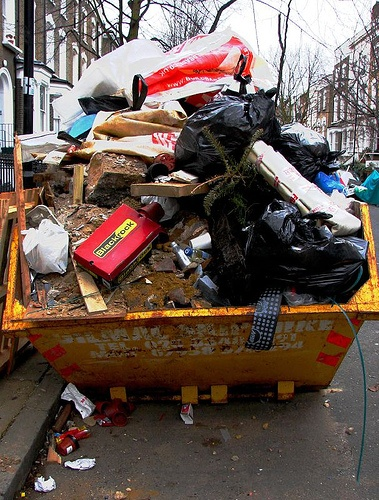rubble: (27, 68, 372, 306)
